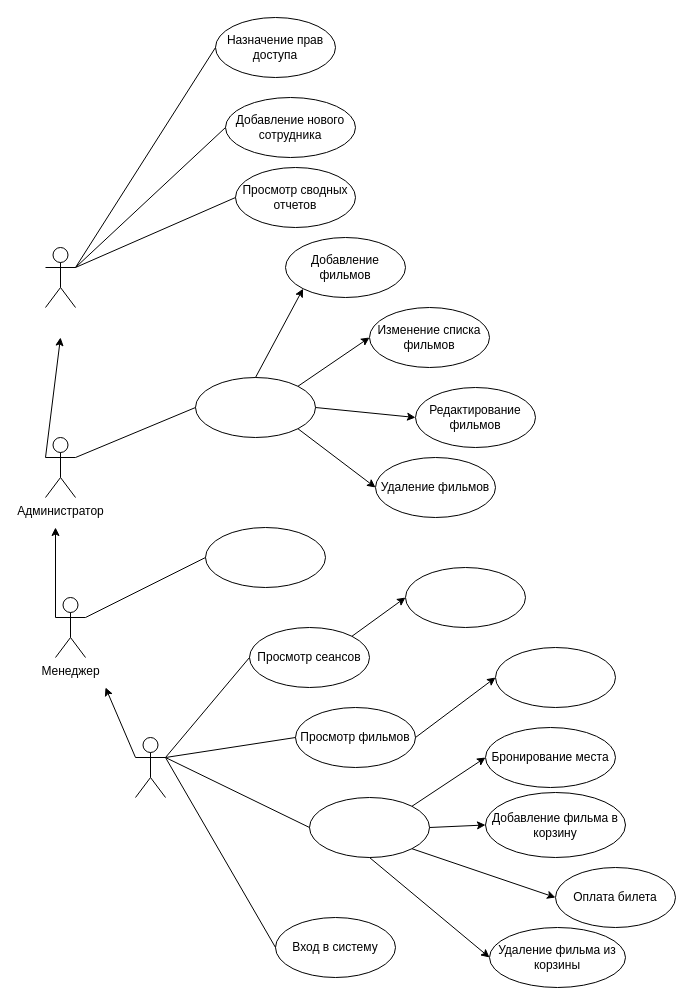
This 693x1005 diagram has some shape labels left out. The centre of each missing label's shape, as x and y in pixels:
"Директор" goes at pixel 60 277.
"Изменение даты сеанса фильма" goes at pixel 465 597.
"Клиент" goes at pixel 150 767.
"Поиск фильма" goes at pixel 555 677.
"Покупка билета" goes at pixel 369 827.
"Просмотр отчетности" goes at pixel 265 557.
"Управление фильмами" goes at pixel 255 407.
